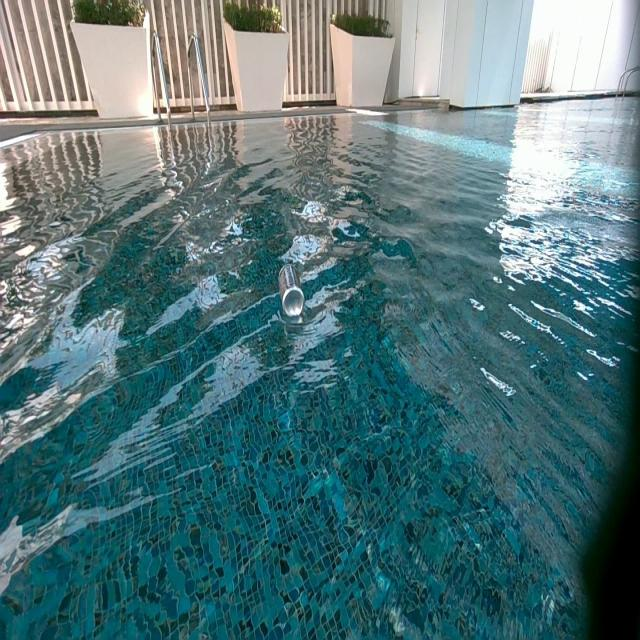Cans: (279, 264, 303, 318)
